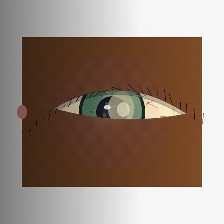corneal_ulcer: (93, 86, 149, 131)
